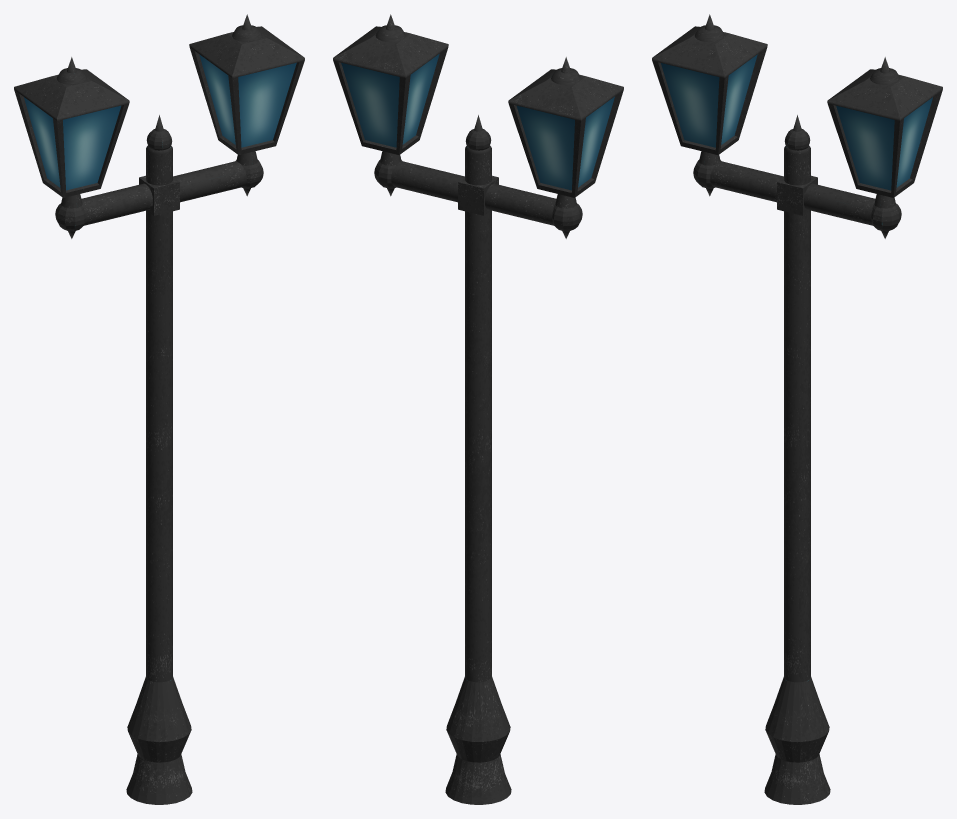
Rendered from Lamp1.obj.
The picture shows the model from 3 angles, left to right: view 1: azimuth 30°, elevation 25°; view 2: azimuth 150°, elevation 25°; view 3: azimuth 330°, elevation 25°; orthographic projection.
Visible parts, largest first — view 1: Lamp1; view 2: Lamp1; view 3: Lamp1.
Part boxes in pixels (x1,y1,x2,y2): Lamp1: [14, 14, 304, 804]; Lamp1: [333, 14, 623, 804]; Lamp1: [652, 14, 942, 804].
Bounding box in the file's own units: 2.26 × 6.59 × 0.679.
